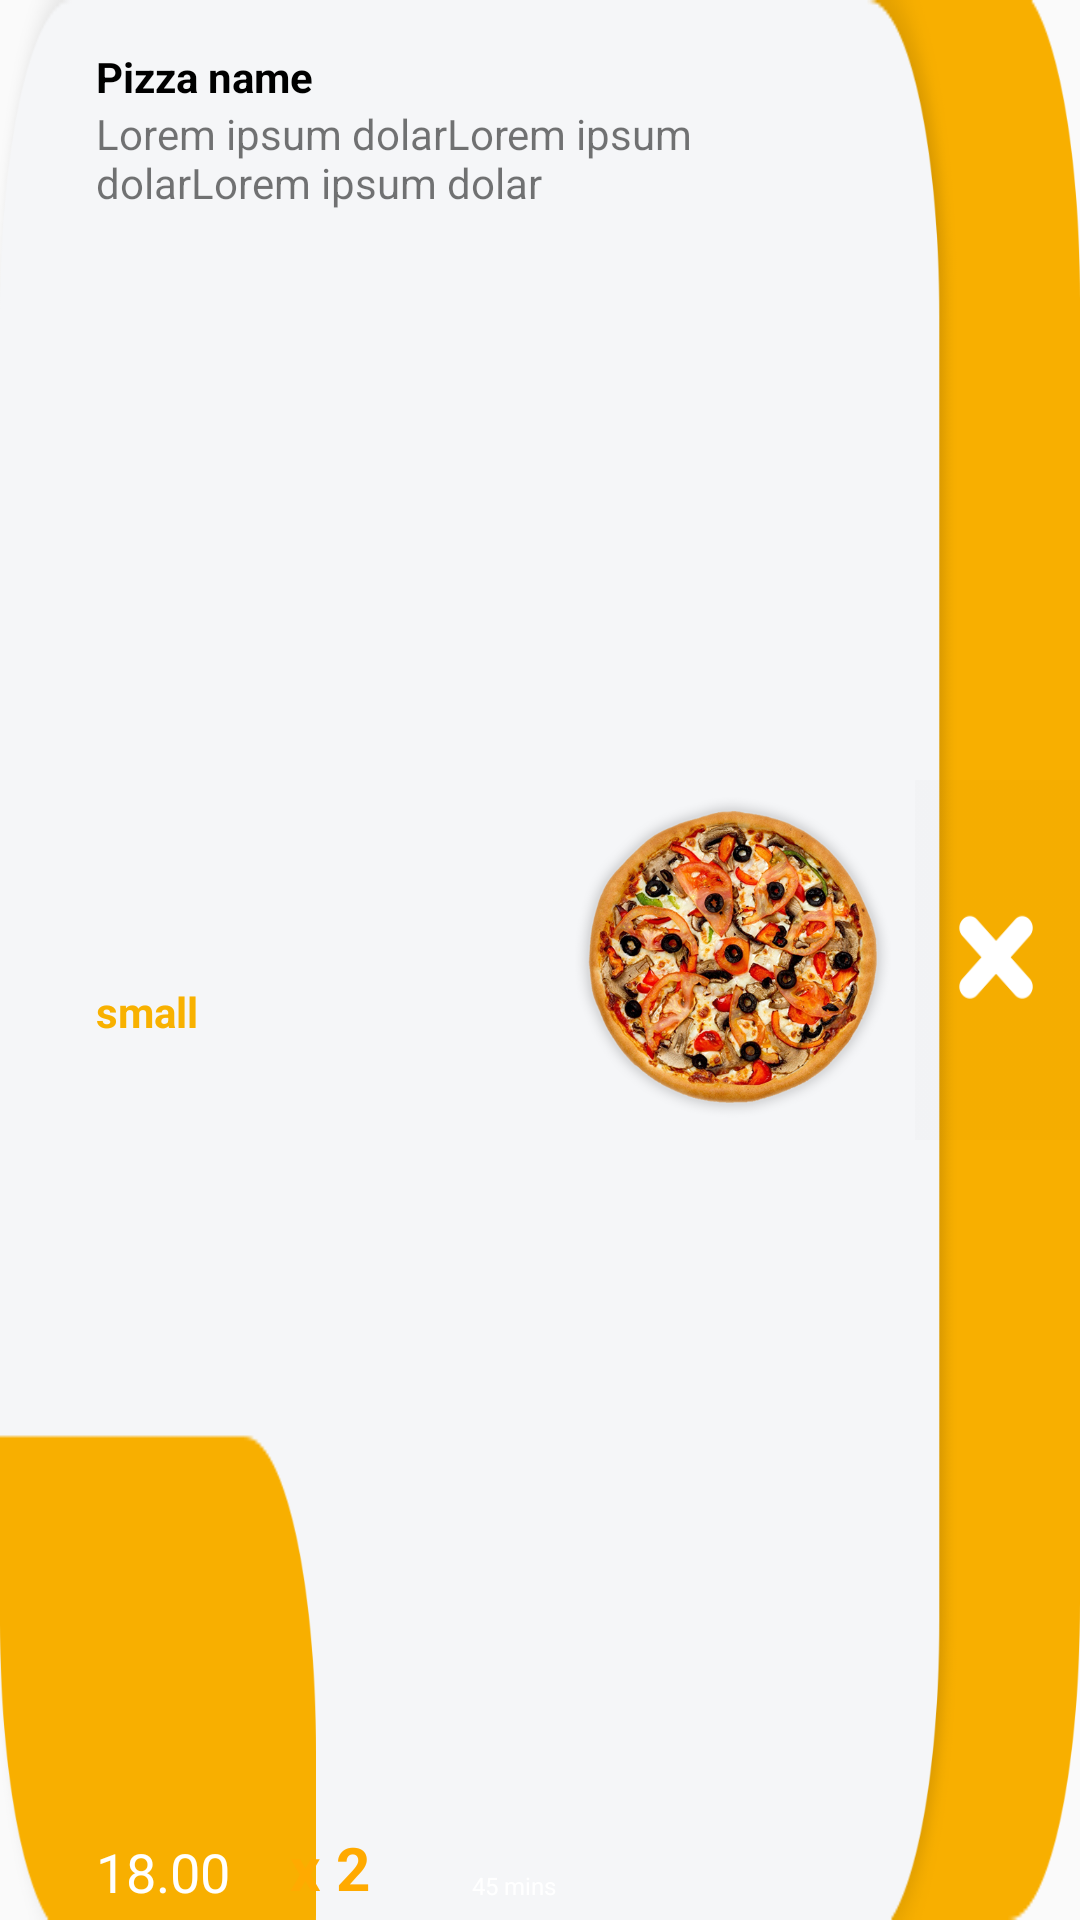

Named icons in this screenshot (1080 x 1920) and their centers, [x,y]:
pizza: [732,957]
remove: [997,960]
